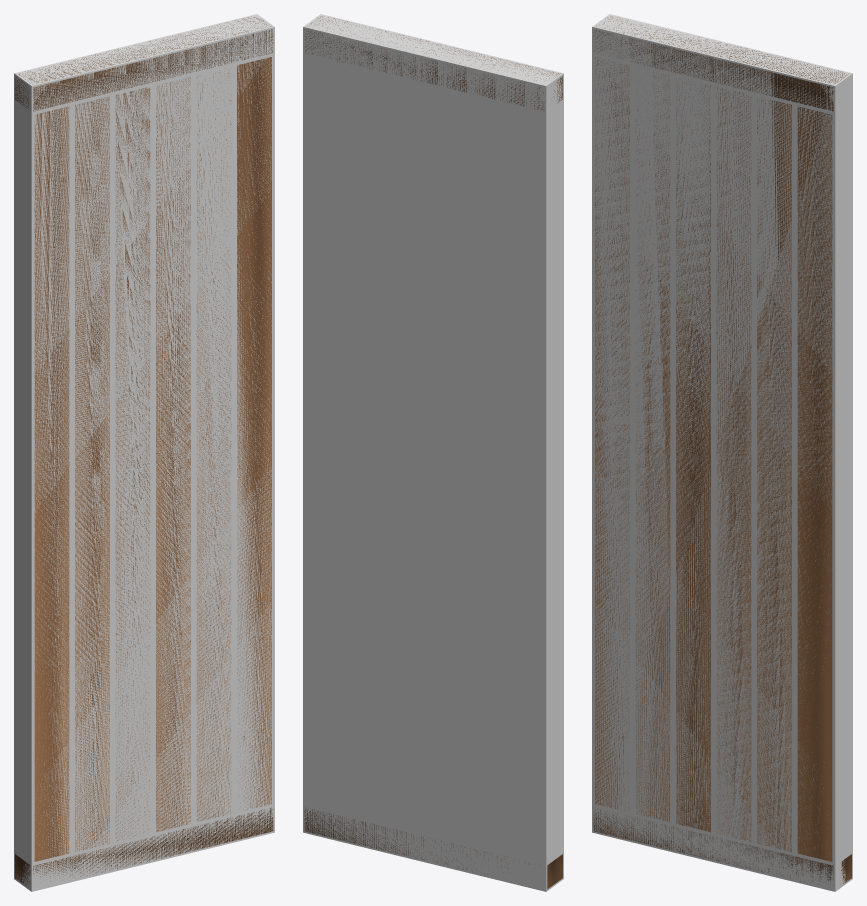
The model's file is town_building_side_infill_v01.fbx.
3 views of the same model, side by side, from view 1: azimuth 30°, elevation 25°; view 2: azimuth 150°, elevation 25°; view 3: azimuth 330°, elevation 25° (orthographic).
Visible parts, largest first — view 1: COL_Infill, LOD0_Static; view 2: COL_Infill, LOD0_Static; view 3: COL_Infill, LOD0_Static.
Boxes of the visible parts, bbox=[...] form: COL_Infill: bbox=[14, 14, 274, 891]; LOD0_Static: bbox=[15, 17, 273, 886]; COL_Infill: bbox=[303, 14, 563, 891]; LOD0_Static: bbox=[304, 16, 562, 889]; COL_Infill: bbox=[592, 14, 852, 891]; LOD0_Static: bbox=[593, 16, 851, 886].
Size of the model in its own units: 0.6 by 1.9 by 0.075.
Materials: 2 (2 with a texture image).
